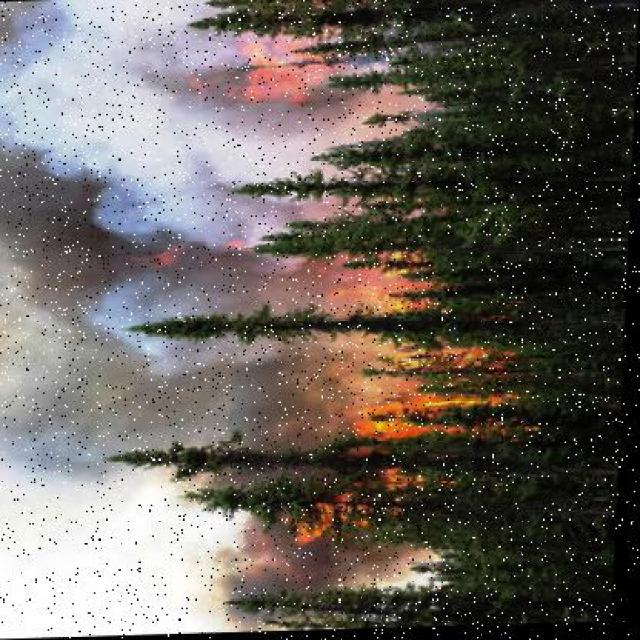fire: (315, 327, 532, 464)
